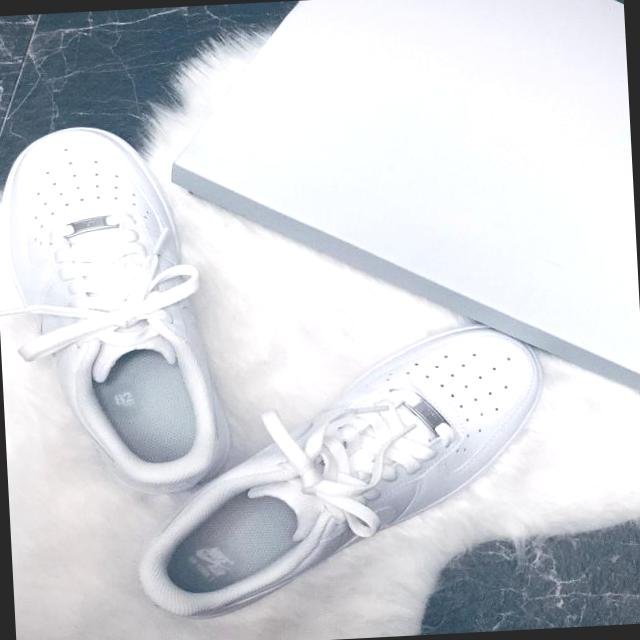nike_original_airforce: (112, 318, 564, 628), (0, 120, 234, 505)
